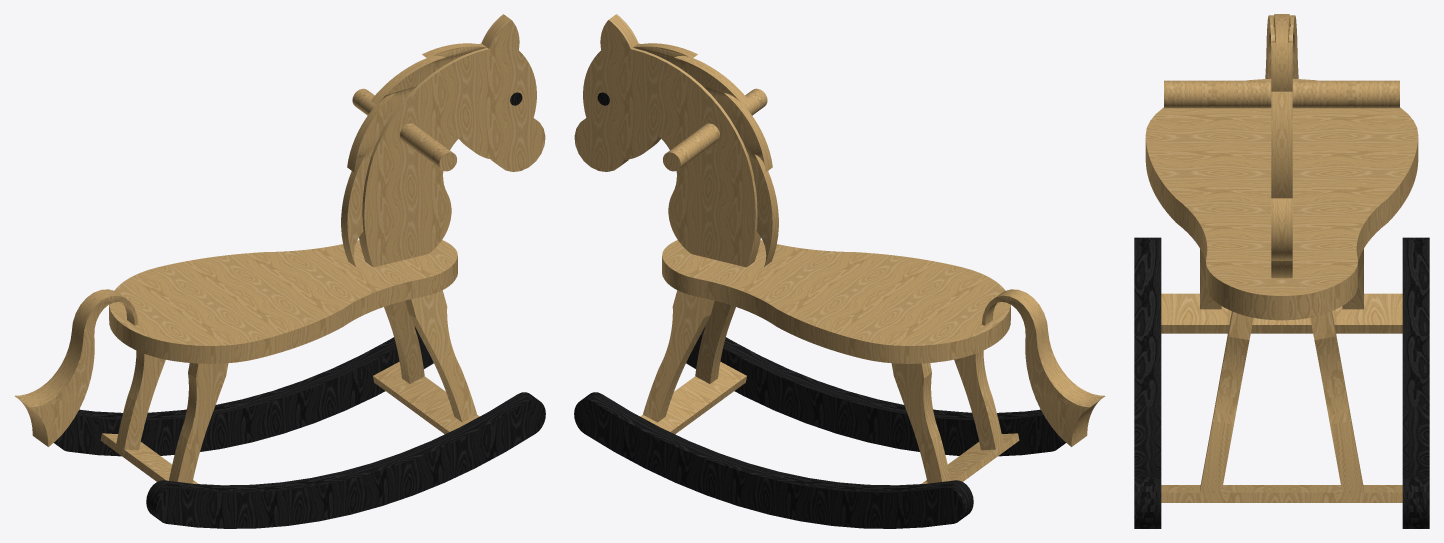
Rendered from hobbelpaard copy.dae.
3 renders of one model, left to right at view 1: azimuth 30°, elevation 25°; view 2: azimuth 150°, elevation 25°; view 3: azimuth 270°, elevation 25°, orthographic. The views are drawn at different scales.
Parts seen in each view (by area): view 1: boog2, boog1, hoofd2, hoofd1; view 2: boog1, boog2, hoofd1, hoofd2; view 3: boog1, boog2, hoofd1, hoofd2.
Boxes of the visible parts, left/top/right/bottom form: boog2: left=22, top=245, right=545, bottom=528; boog1: left=14, top=240, right=450, bottom=472; hoofd2: left=344, top=17, right=545, bottom=267; hoofd1: left=341, top=14, right=506, bottom=263; boog1: left=574, top=245, right=1097, bottom=528; boog2: left=669, top=240, right=1105, bottom=472; hoofd1: left=574, top=17, right=775, bottom=267; hoofd2: left=613, top=14, right=778, bottom=263; boog1: left=1282, top=15, right=1429, bottom=528; boog2: left=1134, top=15, right=1281, bottom=528; hoofd1: left=1282, top=14, right=1399, bottom=278; hoofd2: left=1164, top=14, right=1281, bottom=278.
Bounding box in the file's own units: 759 × 275 × 568.
